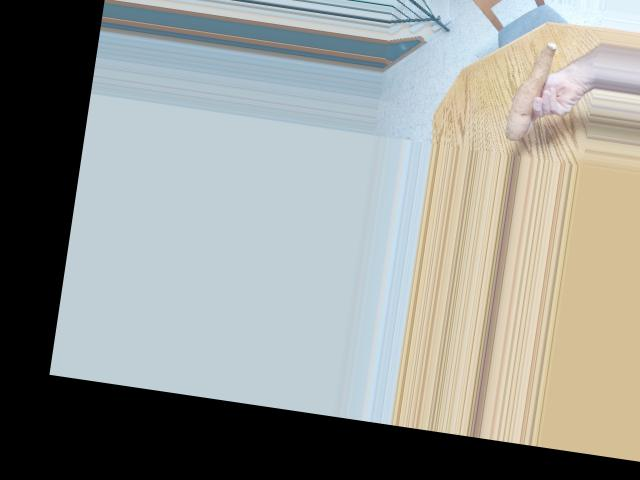sweet_potato: (500, 36, 562, 144)
